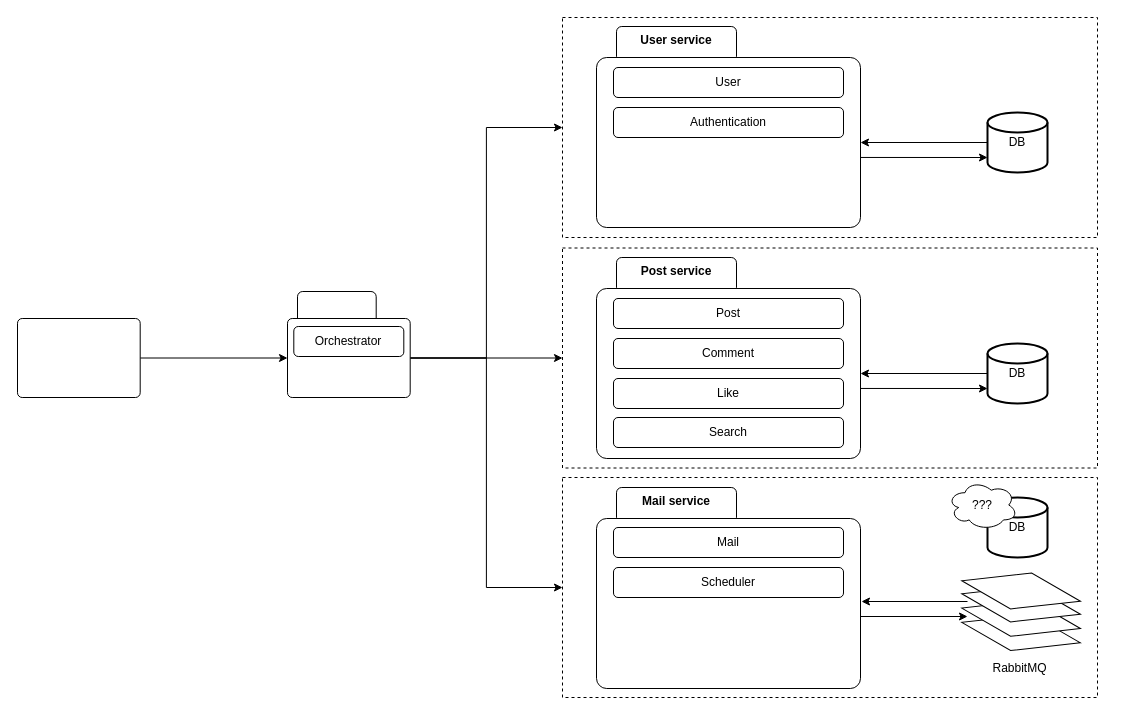
This 1122x715 diagram has some shape labels left out. Here are the shapes that lost their labels. From the top down, the box of each, then its label:
(296, 290, 376, 326): BFF
(16, 318, 140, 398): FRONTEND
